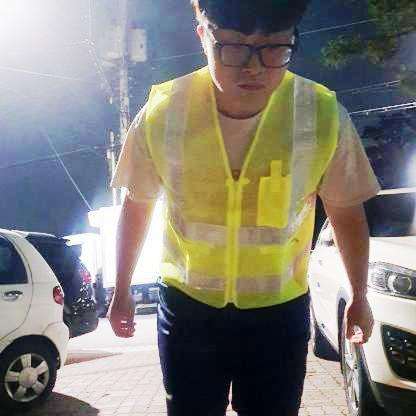vest: (149, 65, 332, 310)
